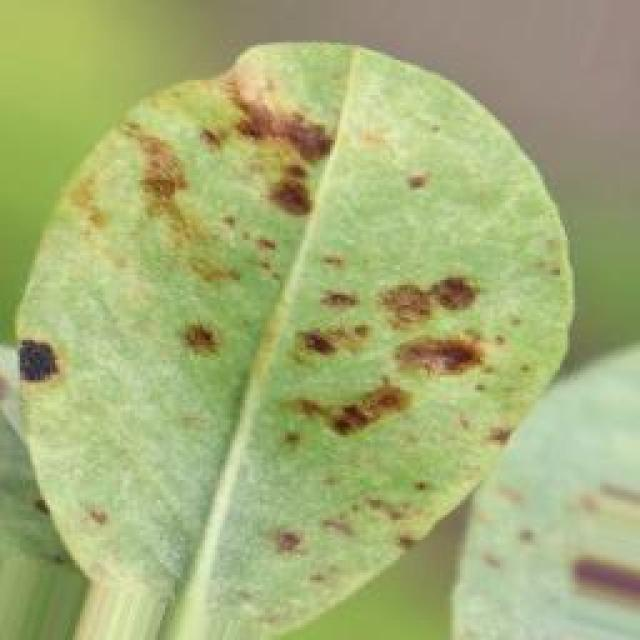Whitefly: (69, 51, 615, 596)
